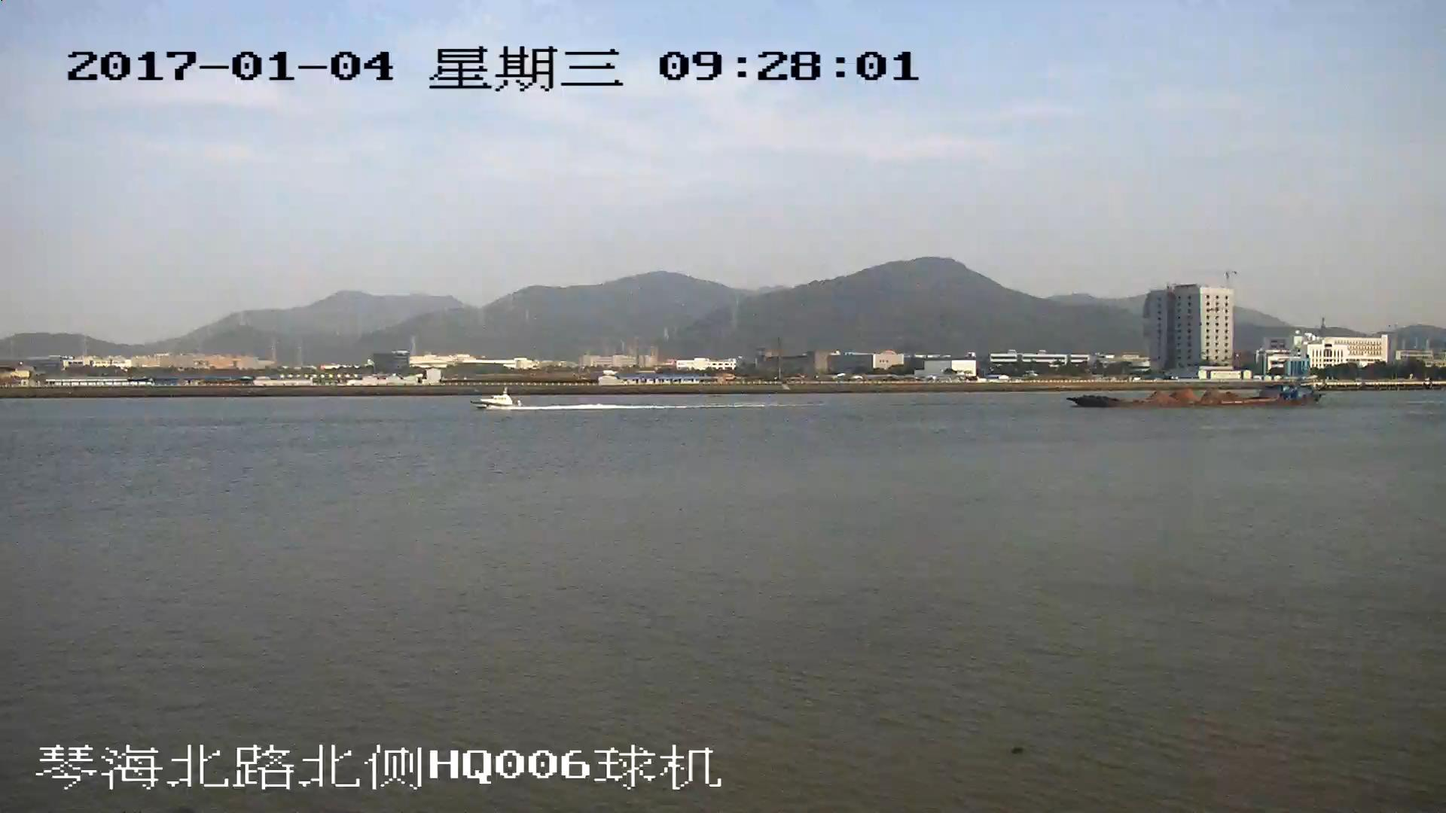ore carrier: (1070, 382, 1322, 408)
passenger ship: (473, 391, 514, 408)
